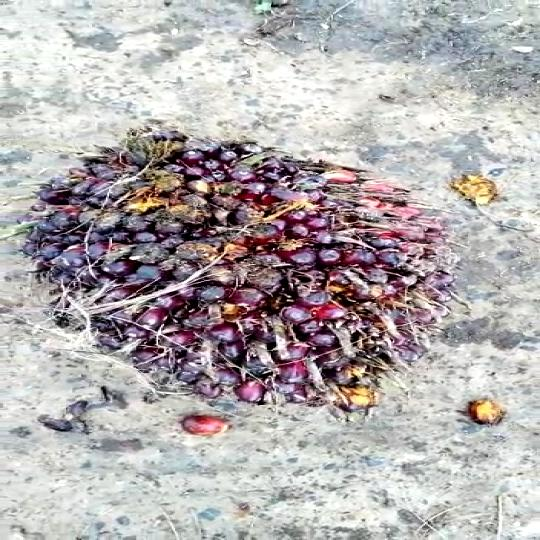masak: (23, 124, 454, 420)
